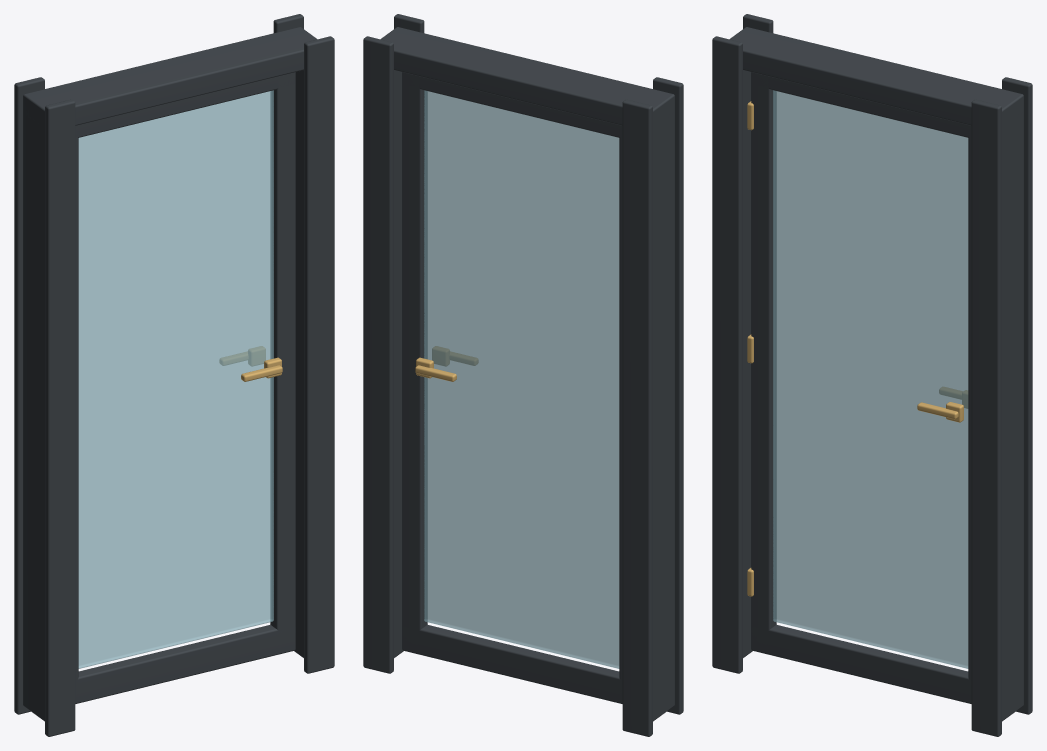
File: door-glazed.glb
The picture shows the model from 3 angles, left to right: view 1: azimuth 30°, elevation 25°; view 2: azimuth 150°, elevation 25°; view 3: azimuth 330°, elevation 25°; orthographic projection.
Parts seen in each view (by area): view 1: Door glazing.004, Architrave.046, Architrave.044, Stile.009, Jamb.022, Lintel.011, Rail.008, Architrave.045, Jamb.023, Rail.009, Stile.008; view 2: Door glazing.004, Architrave.047, Architrave.045, Stile.009, Jamb.022, Lintel.011, Rail.008, Architrave.044, Jamb.023, Rail.009, Stile.008; view 3: Door glazing.004, Architrave.044, Architrave.046, Stile.008, Jamb.023, Lintel.011, Rail.008, Architrave.047, Jamb.022, Rail.009, Stile.009.
Boxes of the visible parts, bbox=[...] form: Door glazing.004: bbox=[78, 90, 273, 668]; Architrave.046: bbox=[304, 36, 334, 673]; Architrave.044: bbox=[45, 99, 75, 736]; Stile.009: bbox=[270, 72, 295, 643]; Jamb.022: bbox=[23, 95, 44, 721]; Lintel.011: bbox=[23, 27, 317, 127]; Rail.008: bbox=[75, 624, 295, 703]; Architrave.045: bbox=[14, 77, 44, 714]; Jamb.023: bbox=[294, 70, 303, 657]; Rail.009: bbox=[75, 72, 295, 137]; Stile.008: bbox=[75, 130, 78, 694]; Door glazing.004: bbox=[424, 90, 619, 668]; Architrave.047: bbox=[363, 36, 393, 673]; Architrave.045: bbox=[622, 99, 652, 736]; Stile.009: bbox=[402, 72, 427, 643]; Jamb.022: bbox=[653, 96, 674, 721]; Lintel.011: bbox=[380, 27, 674, 126]; Rail.008: bbox=[402, 624, 622, 703]; Architrave.044: bbox=[653, 77, 683, 714]; Jamb.023: bbox=[394, 70, 403, 657]; Rail.009: bbox=[402, 72, 622, 137]; Stile.008: bbox=[619, 125, 622, 694]; Door glazing.004: bbox=[773, 90, 968, 668]; Architrave.044: bbox=[712, 36, 742, 673]; Architrave.046: bbox=[971, 99, 1001, 736]; Stile.008: bbox=[751, 72, 776, 643]; Jamb.023: bbox=[1002, 96, 1023, 721]; Lintel.011: bbox=[729, 27, 1023, 126]; Rail.008: bbox=[751, 624, 971, 703]; Architrave.047: bbox=[1002, 77, 1032, 714]; Jamb.022: bbox=[743, 70, 752, 657]; Rail.009: bbox=[751, 72, 971, 137]; Stile.009: bbox=[968, 125, 971, 680].
Size of the model in its own units: 1.03 by 2.16 by 0.215.
